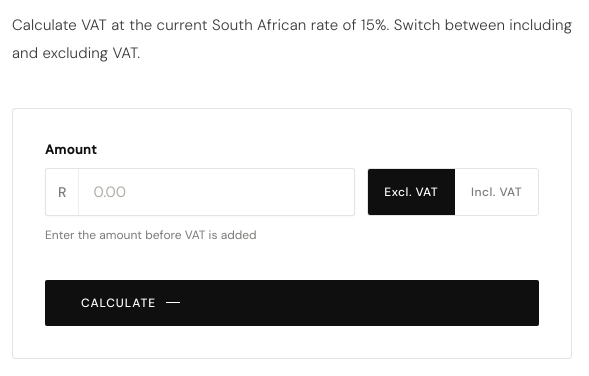
Test case: VatCalculator › GIVEN the mode hint text › WHEN mode is switched to incl, THEN the "already including VAT" hint is shown
Click the button with class "calc-toggle-btn" showing "Incl. VAT" at (497, 192), box [455,168,538,214]
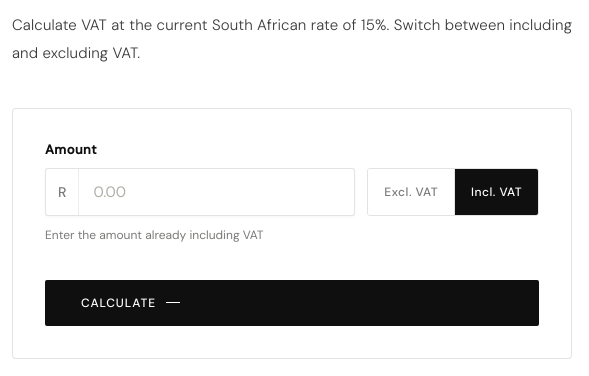
Expected: the text "Enter the amount already including VAT" is shown, [45,226,263,242]
